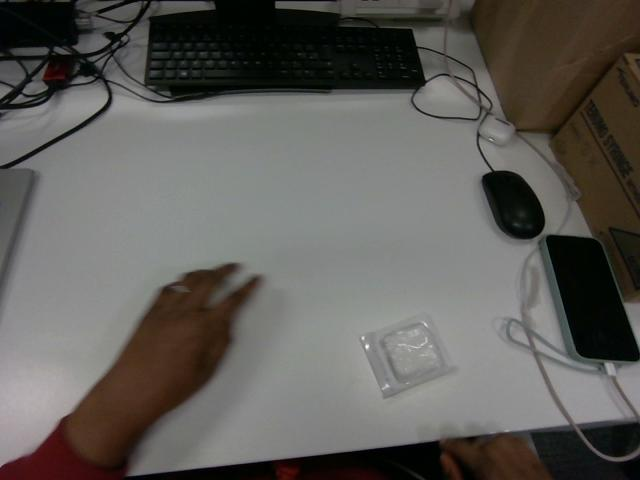gauze: (360, 313, 454, 397)
